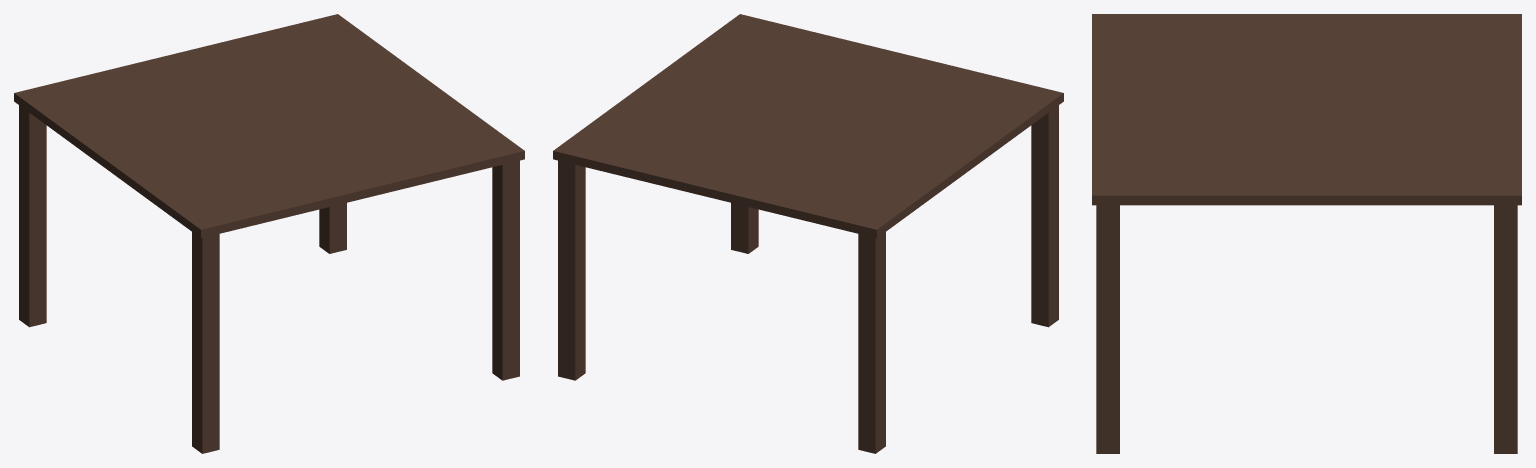
The model's file is Mesa.fbx.
The picture shows the model from 3 angles, left to right: view 1: azimuth 30°, elevation 25°; view 2: azimuth 150°, elevation 25°; view 3: azimuth 270°, elevation 25°; orthographic projection. The views are drawn at different scales.
Visible parts, largest first — view 1: Mesa.004; view 2: Mesa.004; view 3: Mesa.004.
Boxes of the visible parts, x1,y1,x2,y2 form: Mesa.004: [14, 14, 524, 453]; Mesa.004: [553, 14, 1063, 453]; Mesa.004: [1092, 14, 1521, 453].
Bounding box in the file's own units: 58.37 × 38.96 × 58.37.
